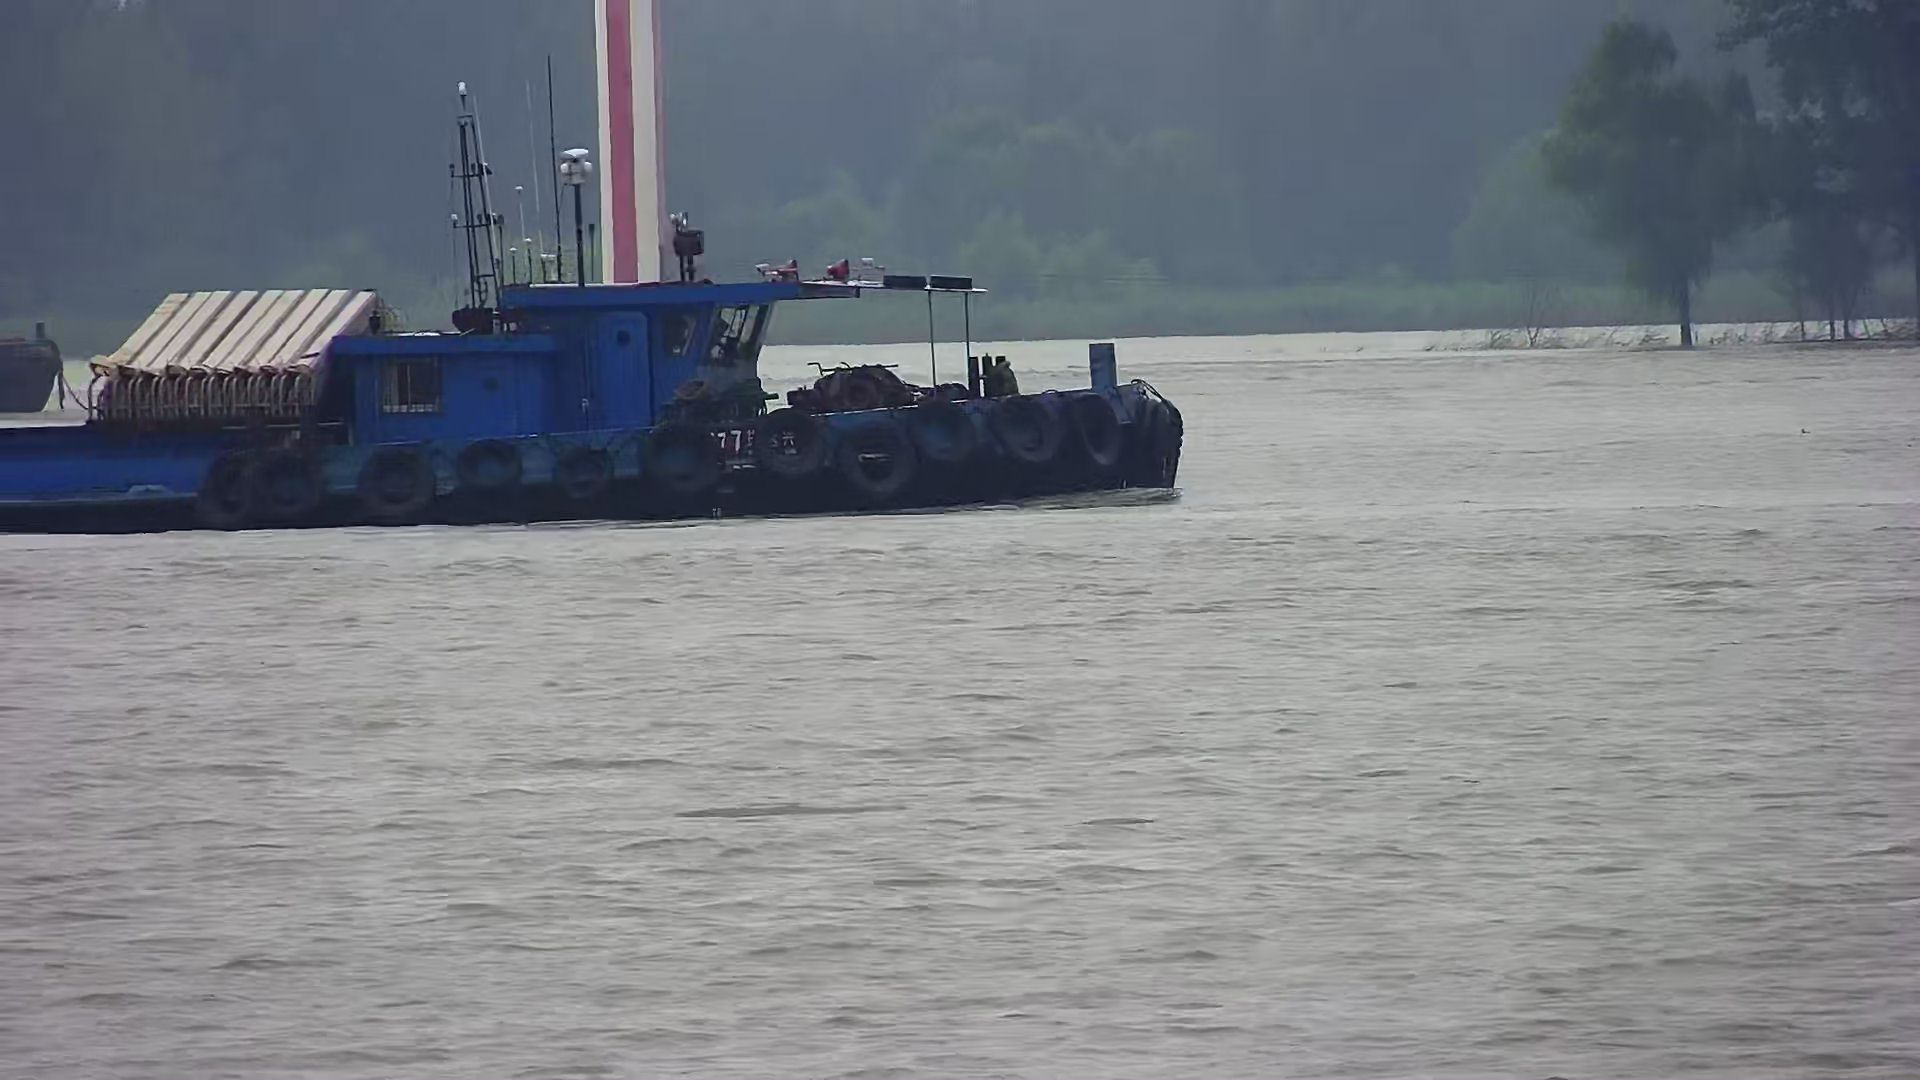ship: (1, 138, 1183, 533)
tree: (1528, 16, 1774, 351), (1738, 3, 1920, 343)
